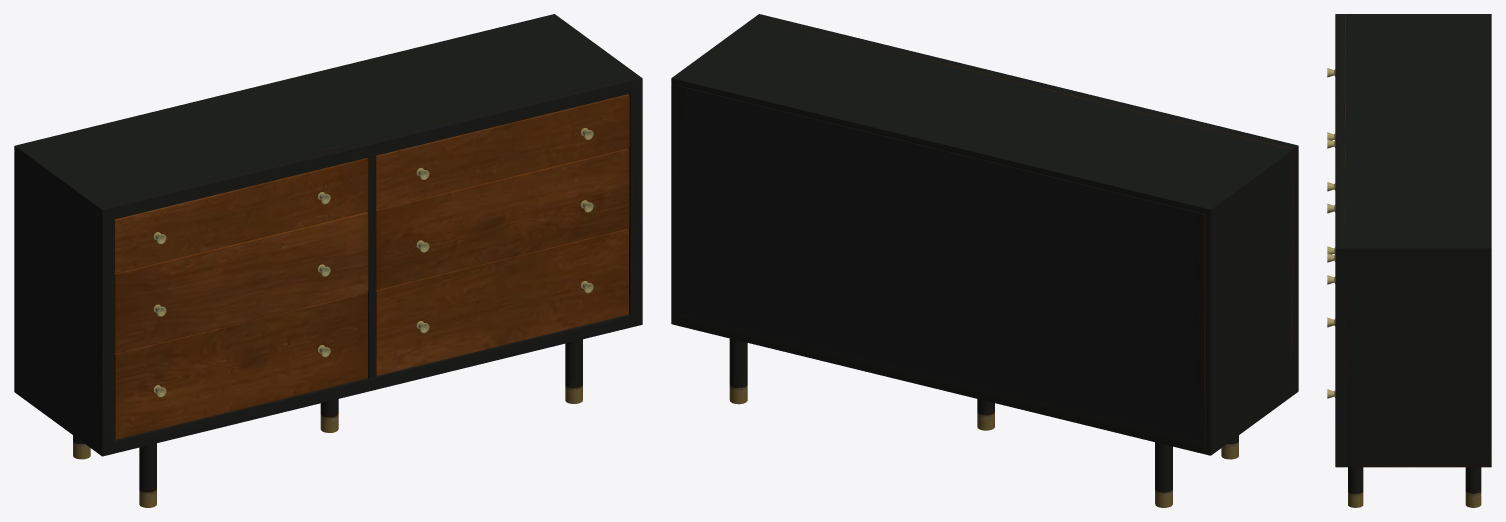
3 views of the same model, side by side, from view 1: azimuth 30°, elevation 25°; view 2: azimuth 150°, elevation 25°; view 3: azimuth 270°, elevation 25° (orthographic). The views are drawn at different scales.
Visible parts, largest first — view 1: RootNode; view 2: RootNode; view 3: RootNode.
Part boxes in pixels (bbox=[...]): RootNode: bbox=[14, 14, 642, 507]; RootNode: bbox=[671, 14, 1298, 507]; RootNode: bbox=[1327, 14, 1491, 507].
Size of the model in its own units: 1.56 by 0.8721 by 0.4627.
1 material, 1 textured.
